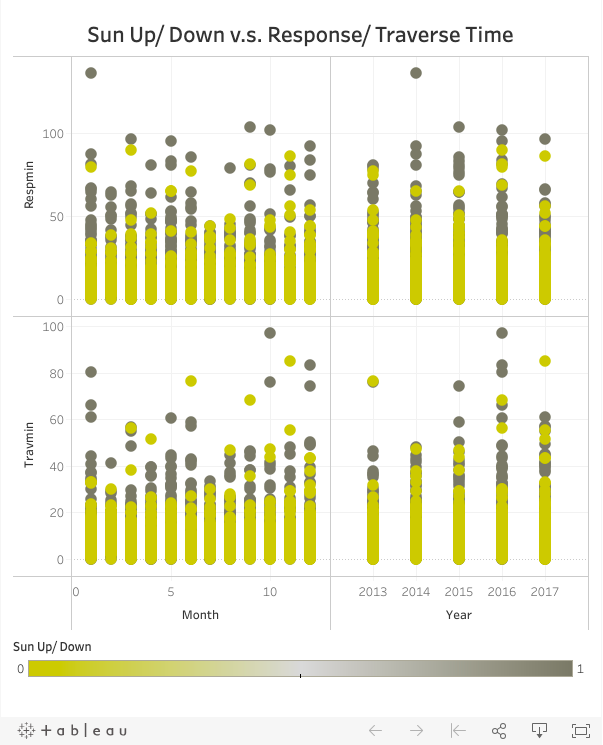

This screenshot's page, from the dashboard's own definition file:
{"tool":"tableau","page":{"name":"Dashboard 1","canvas":[600,690],"ordinal":0},"visuals":[{"type":"worksheet","title":"Sheet 1","mark":"Shape","rows":["travmin","respmin"],"cols":["MONTH","year"],"box":[4.8,6.9,590.4,611.5]},{"type":"legend","title":"Sheet 1","param":"[federated.1r386280mhq0gq1dylxgv10yi3o3].[none:sevlev:qk]","box":[4.8,618.4,590.4,64.7]}]}

Visuals, with their boxes on the page's 600x690 design canvas (x1, y1, x2, y2). These are canvas units, not pixel positions in the 603x745 screenshot, which may show the page scaled, cropped or inside an application window:
"Sheet 1" worksheet (Shape marks): rect(5, 7, 595, 618)
"Sheet 1" legend: rect(5, 618, 595, 683)
